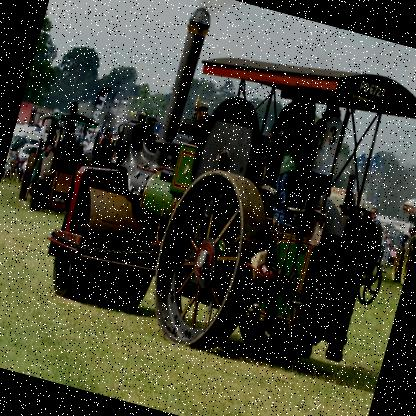Car: (12, 142, 44, 180)
